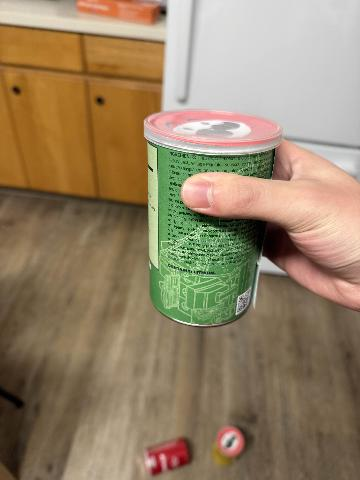Green Can: (145, 111, 282, 326)
Red Can: (144, 439, 189, 475)
